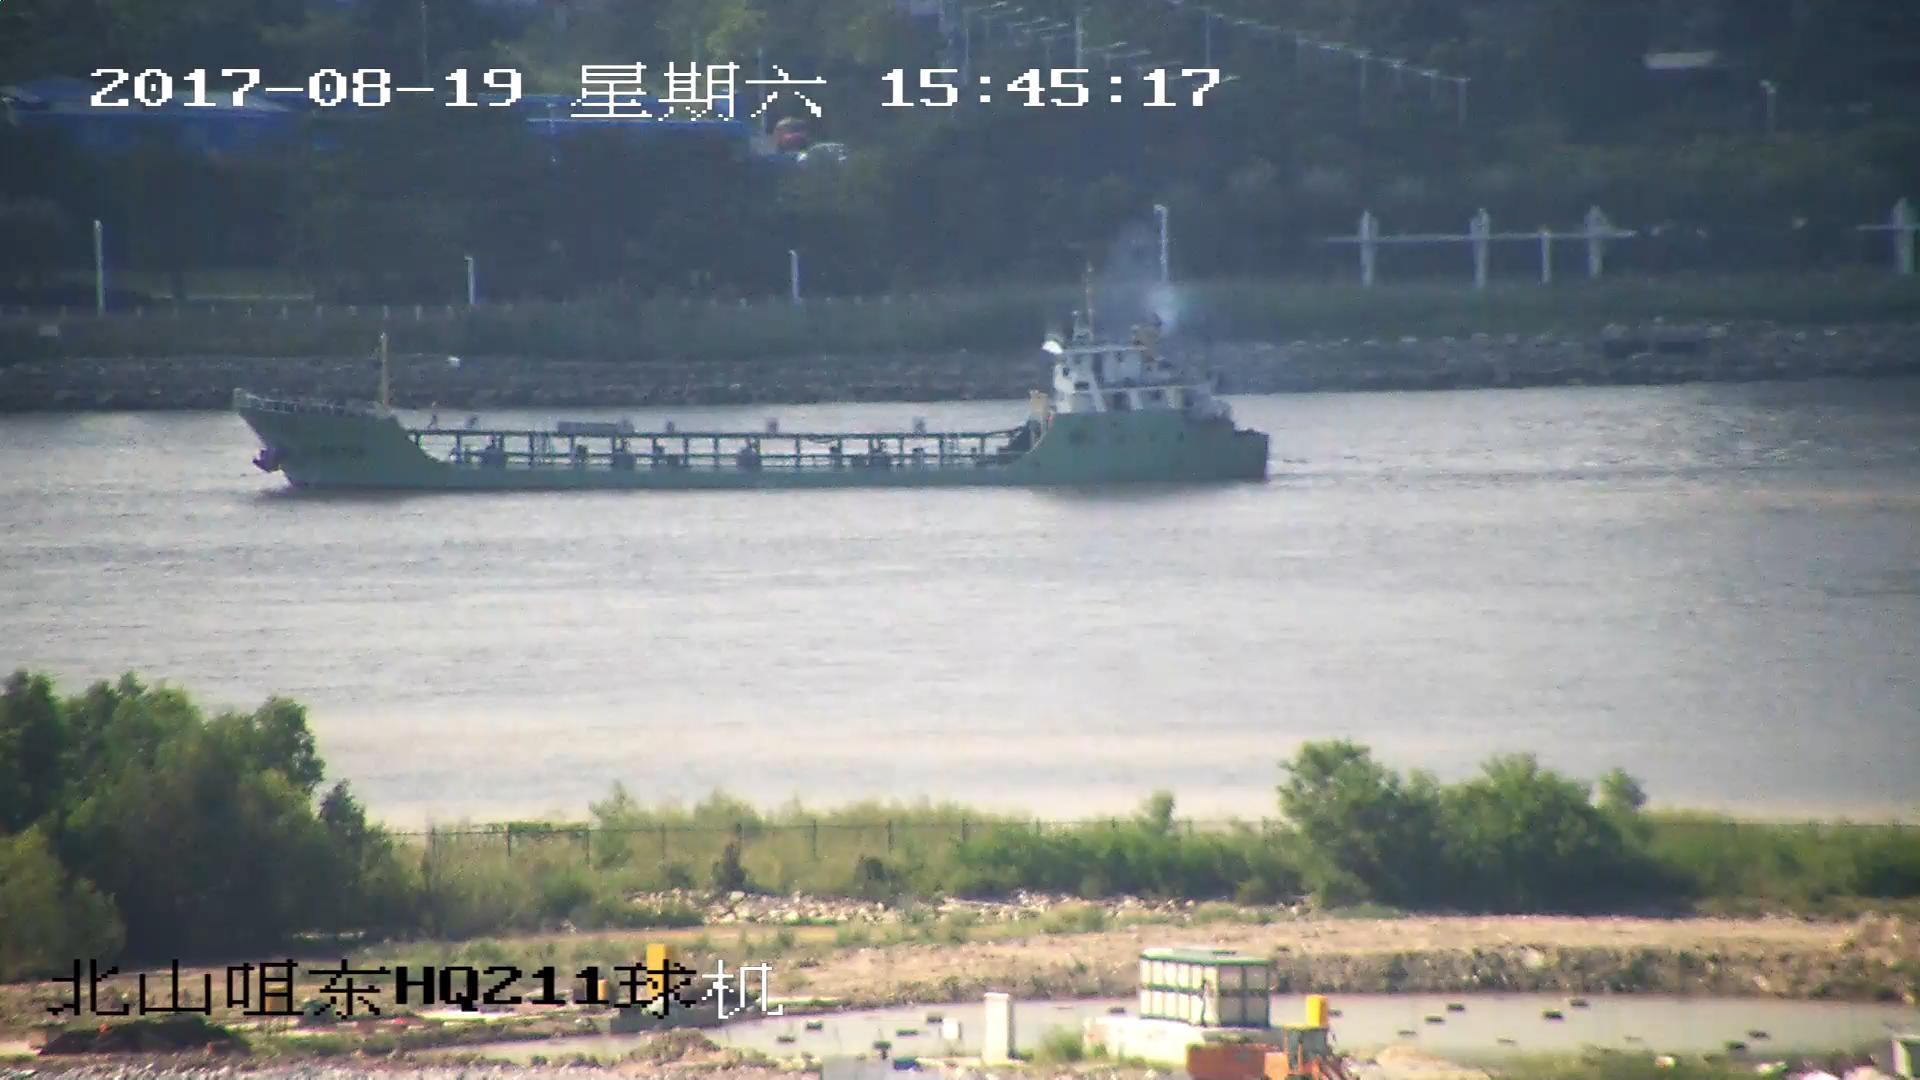Ship: (237, 266, 1273, 484)
